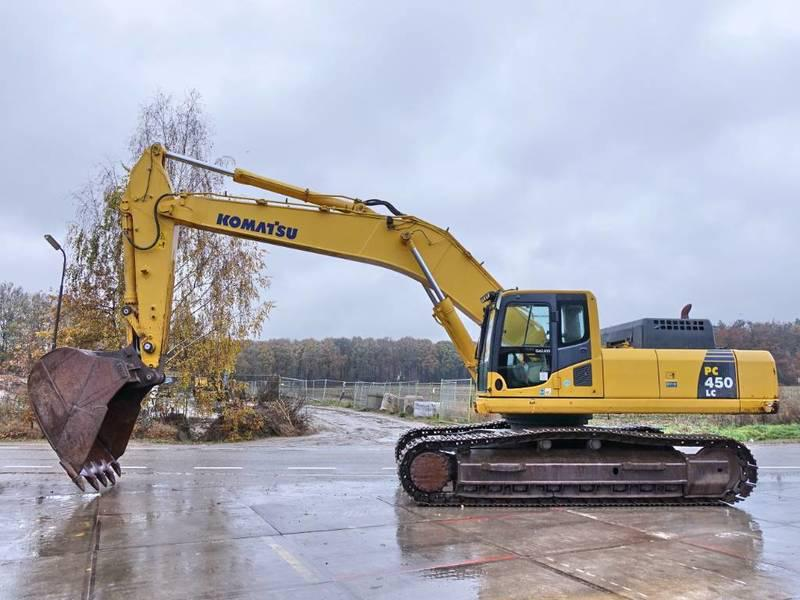shovel: (25, 138, 785, 519)
